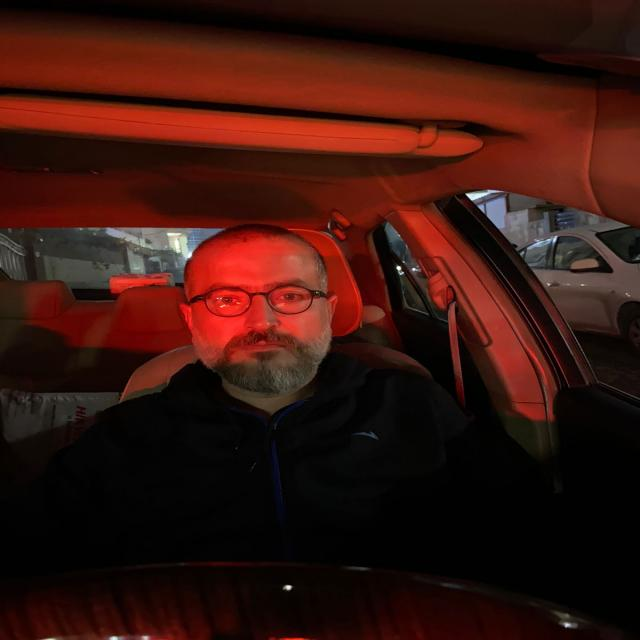person: (176, 221, 342, 399)
